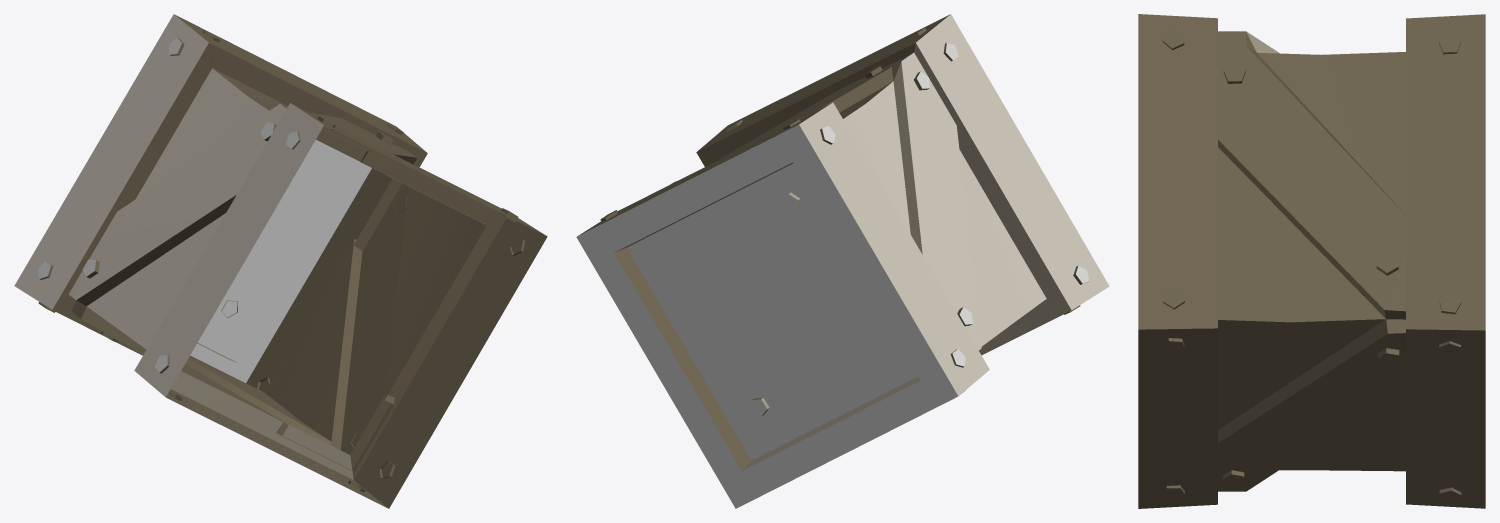
Rendered from herbertCrate.fbx.
The picture shows the model from 3 angles, left to right: view 1: azimuth 30°, elevation 25°; view 2: azimuth 150°, elevation 25°; view 3: azimuth 270°, elevation 25°; orthographic projection. The views are drawn at different scales.
Visible parts, largest first — view 1: herbertCrate (2); view 2: herbertCrate (2); view 3: herbertCrate (2).
Part boxes in pixels (<box>): herbertCrate (2): <box>14,14,547,508</box>; herbertCrate (2): <box>576,14,1109,508</box>; herbertCrate (2): <box>1138,14,1485,508</box>.
Size of the model in its own units: 79.16 by 79.16 by 54.27.
